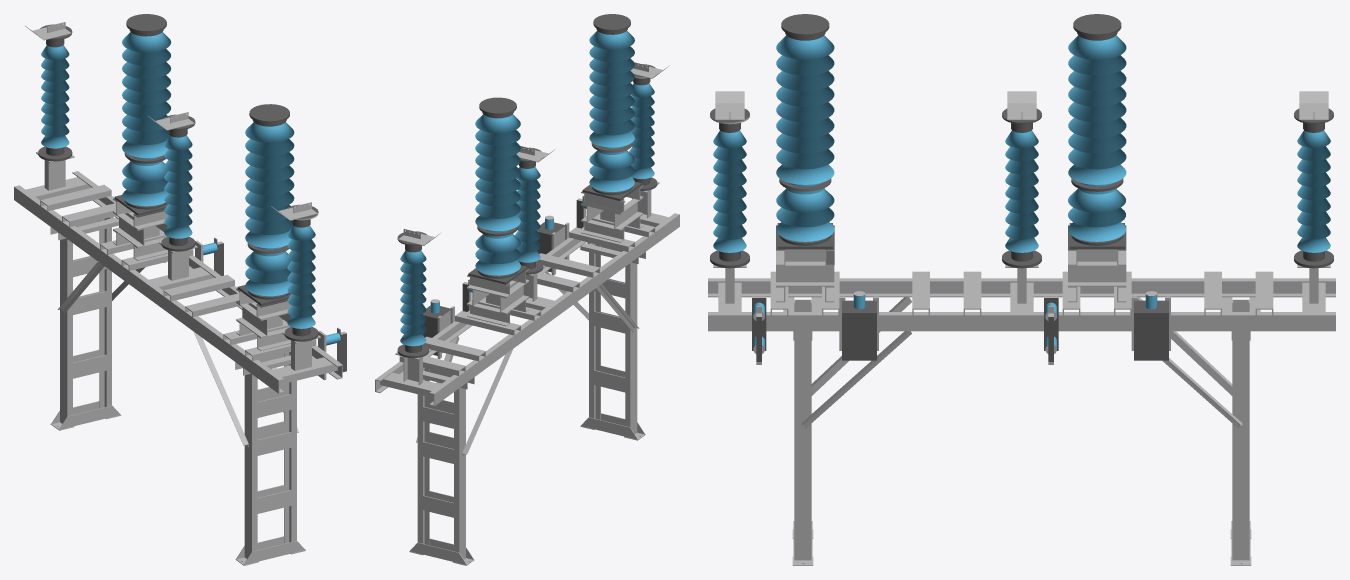
The model's file is Б110-84-2-1250Б-УХЛ1.fbx.
3 renders of one model, left to right at view 1: azimuth 30°, elevation 25°; view 2: azimuth 150°, elevation 25°; view 3: azimuth 270°, elevation 25°, orthographic. The views are drawn at different scales.
Visible parts, largest first — view 1: Блок приема ВЛ 110кВ; view 2: Блок приема ВЛ 110кВ; view 3: Блок приема ВЛ 110кВ.
Boxes of the visible parts, box(x1,y1,x2,y2) form: Блок приема ВЛ 110кВ: box(14, 14, 346, 565); Блок приема ВЛ 110кВ: box(375, 14, 679, 565); Блок приема ВЛ 110кВ: box(708, 14, 1335, 565).
Size of the model in its own units: 835 by 3959 by 4300.
